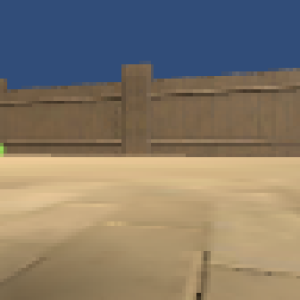goodGoal: (1, 142, 7, 157)
